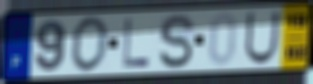0: (206, 11, 240, 68)
9: (33, 18, 68, 74)
L: (121, 18, 151, 69)
O: (69, 15, 111, 74)
S: (158, 13, 198, 71)
U: (243, 10, 282, 66)
